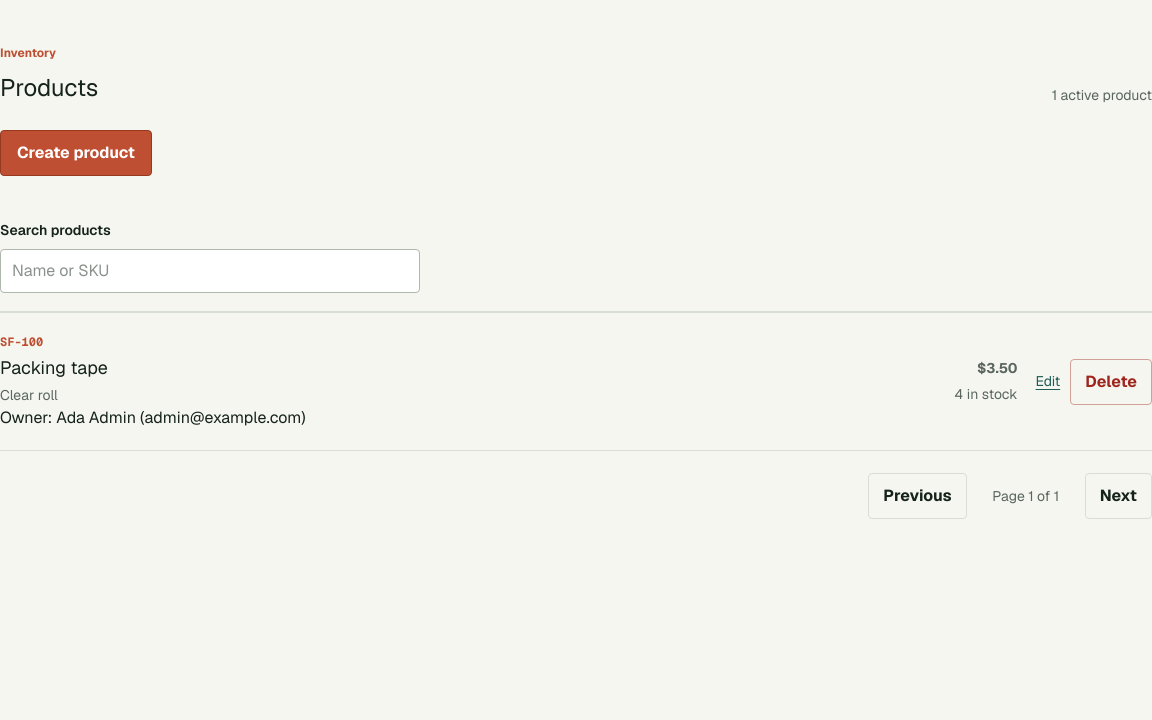
Test: ProductsScreen › opens and closes the keyboard-accessible product modal
The image size is (1152, 720).
Expected: the heading "Packing tape" is shown, [0,356,108,379]
Click the button "Create product".
click(76, 153)  # box [0,130,152,176]
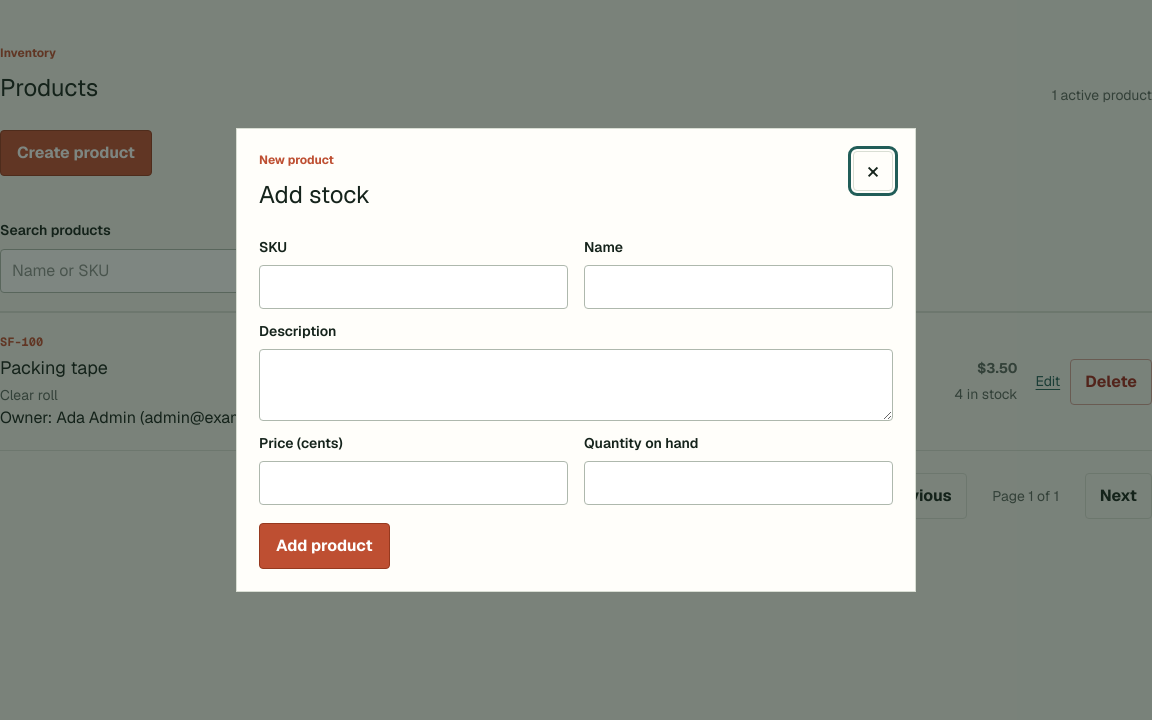
Expected: the dialog "Add stock" is shown
Press Tab
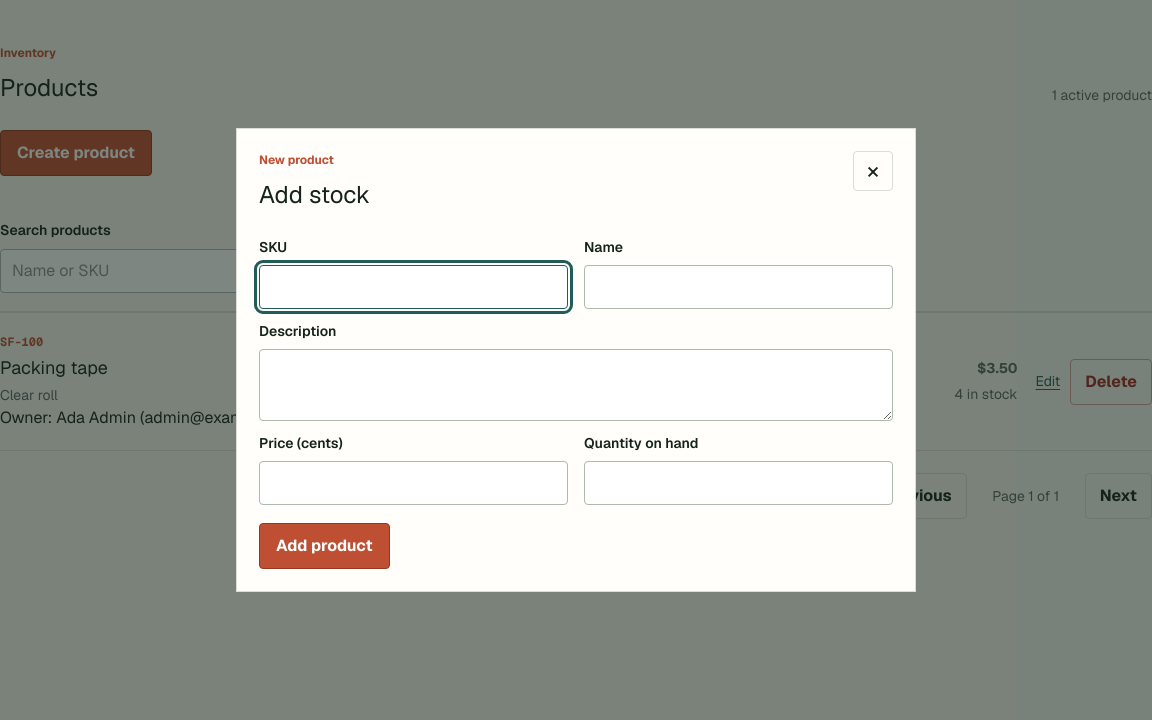
Type keys "{Shift>}{Tab}{/Shift}"
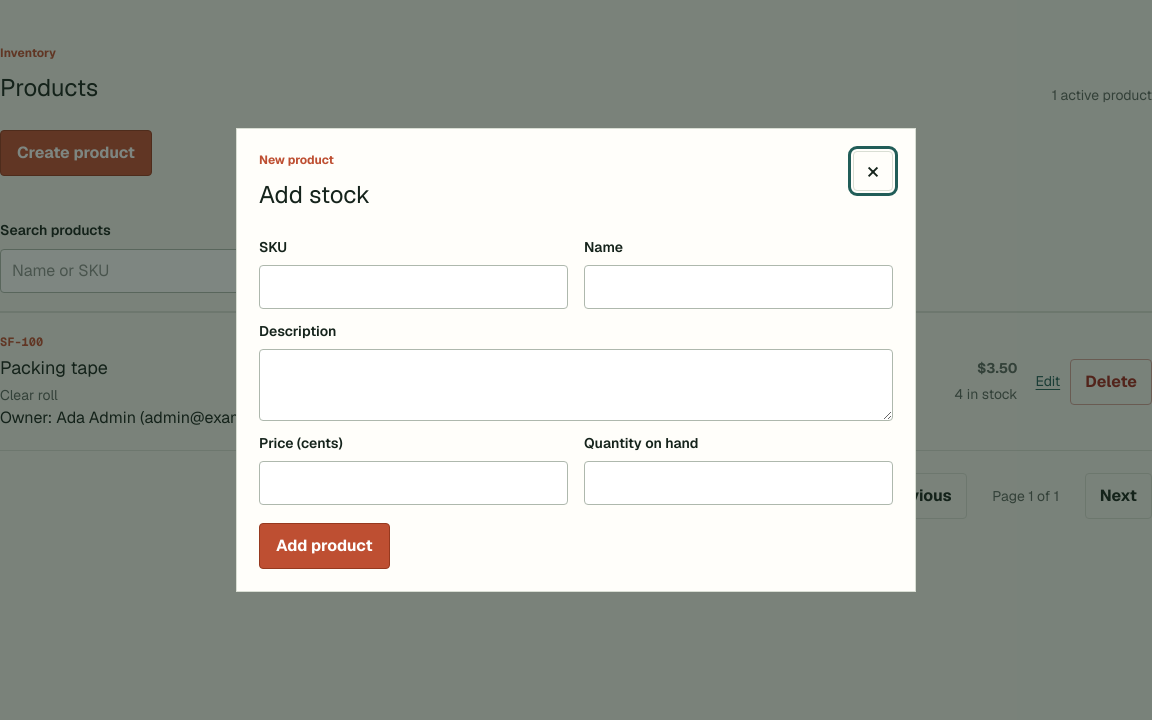
Press Escape
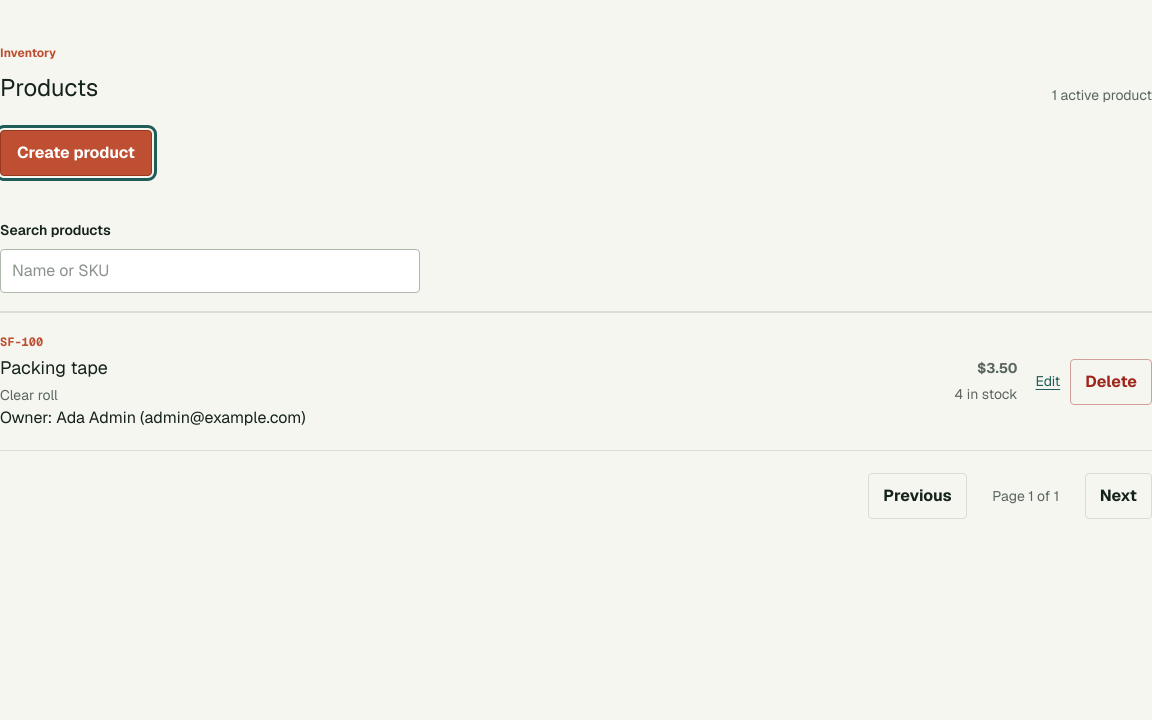
Expected: the dialog is gone
